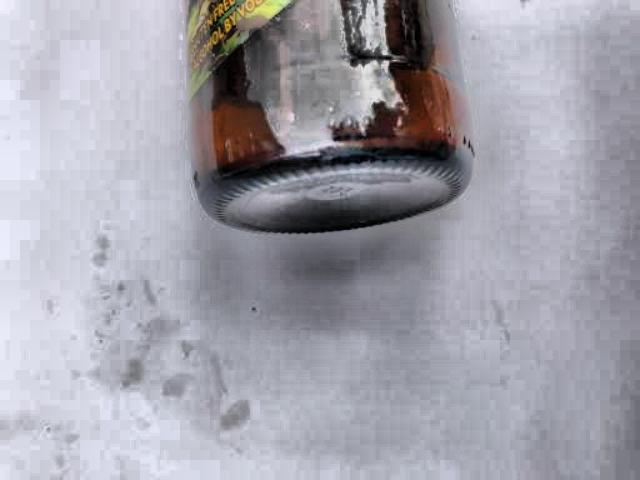Bottles: (155, 0, 498, 264)
